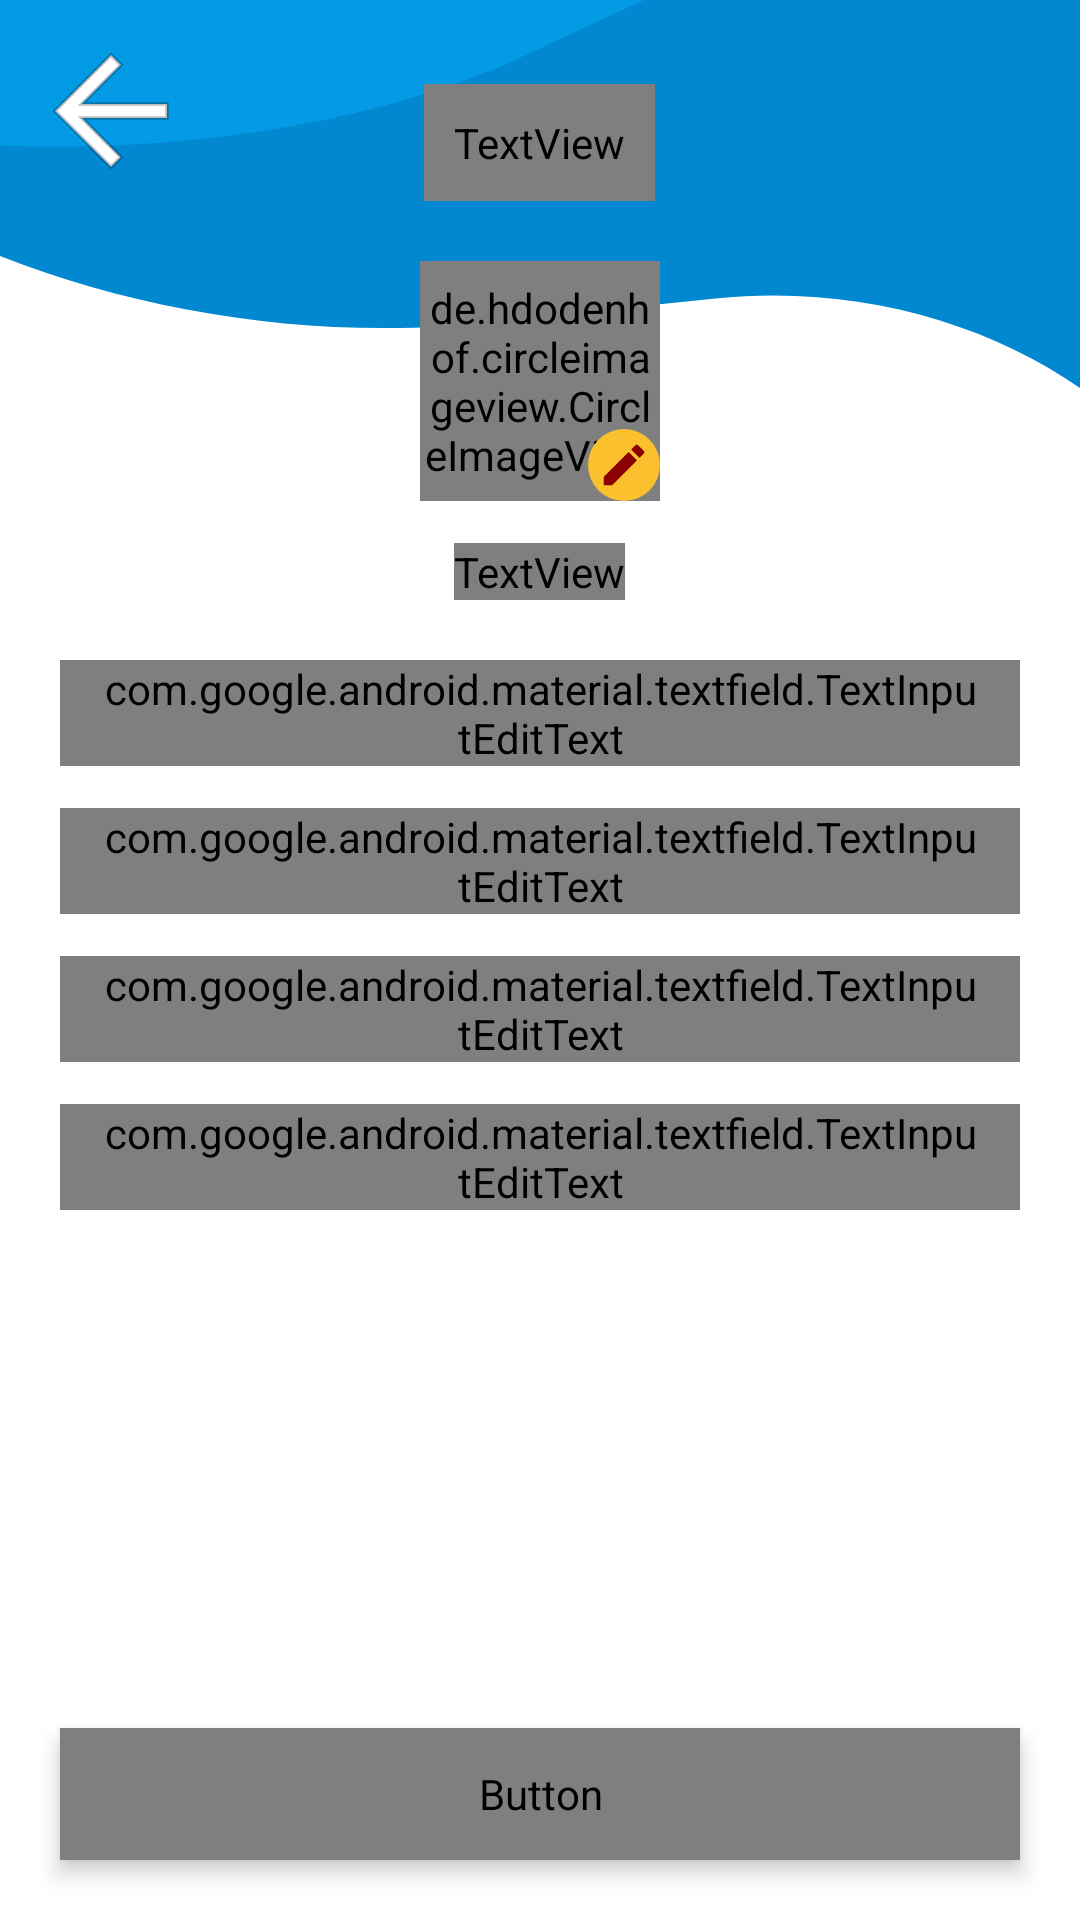

Where to tap for icons on this 1080x1920 app screen, as point (x, y):
Back: point (111, 111)
edit: point (624, 465)
